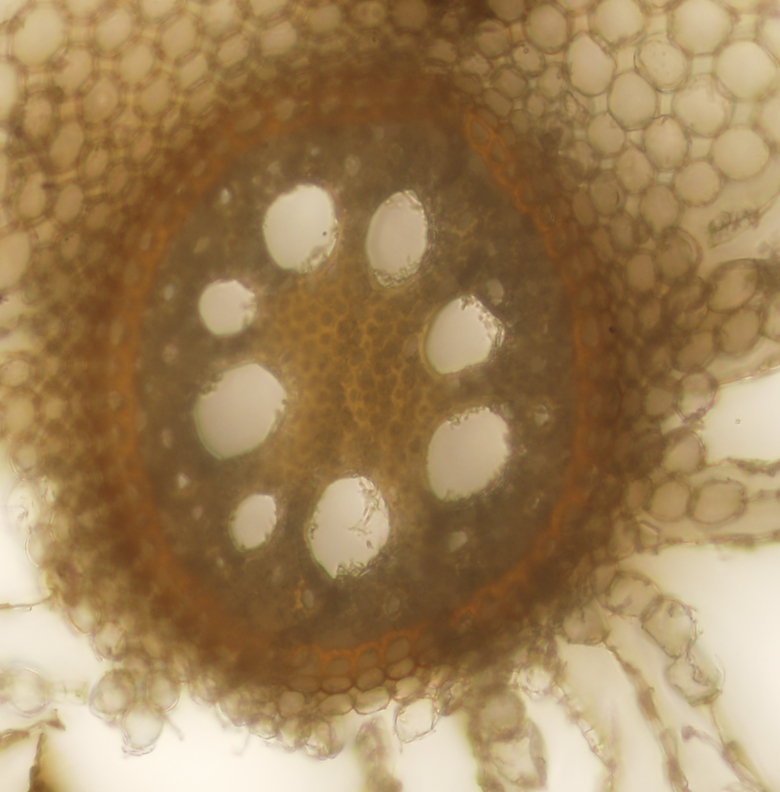lm: (195, 362, 287, 461), (304, 476, 391, 580), (424, 409, 509, 502), (423, 294, 505, 375), (262, 185, 338, 271), (365, 190, 427, 288), (197, 278, 259, 337), (227, 495, 278, 552)
